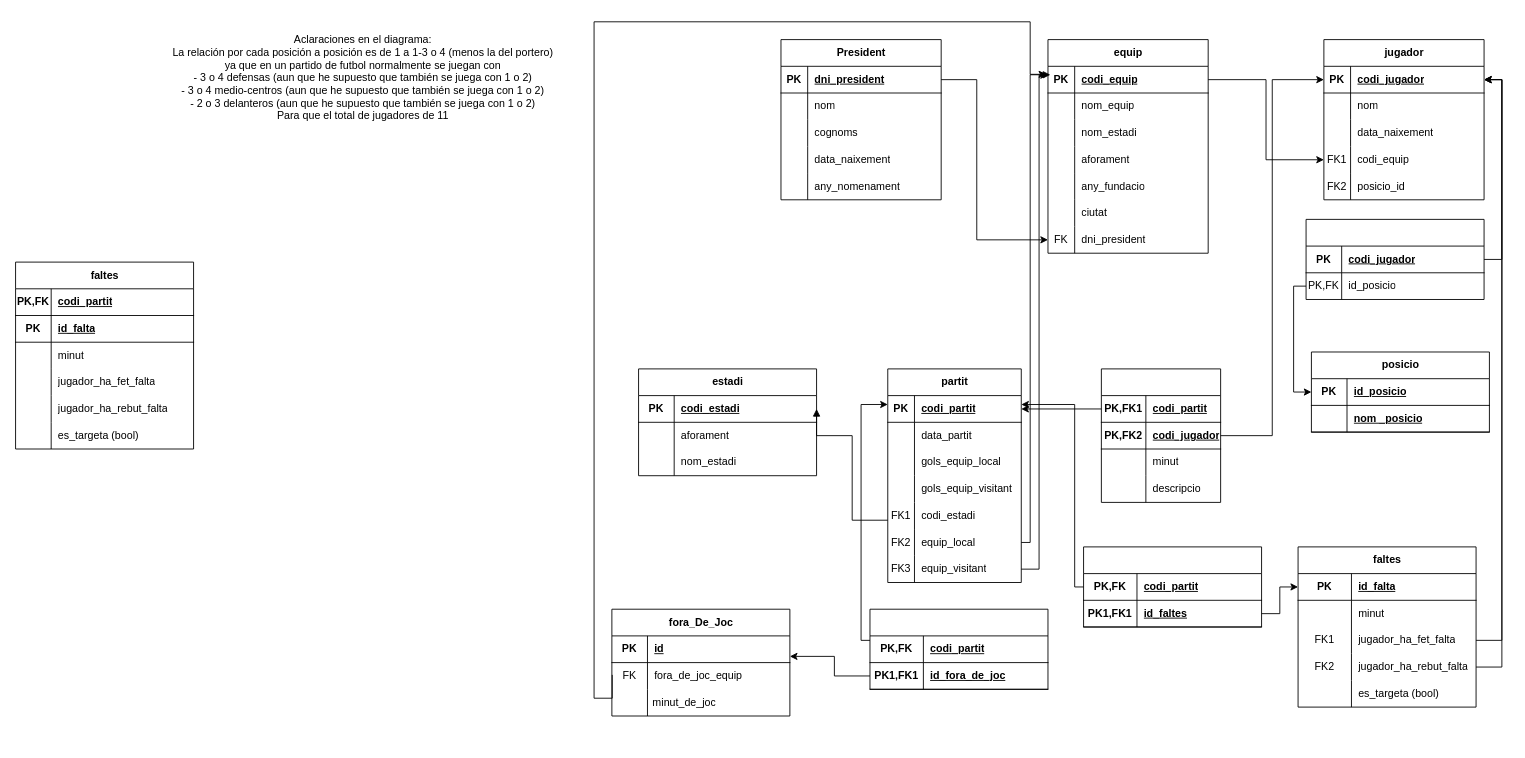
The diagram is 1525 pixels wide and 758 high, and some of its shapes have lost their labels. The box of each missing label's shape, as (x1, y1, x2, y2) in pixels:
faltes_partit: (1083, 546, 1262, 627)
fora_de_joc_partit: (869, 608, 1048, 689)
gols: (1100, 368, 1221, 502)
posicio_del_jugador: (1305, 218, 1484, 299)
